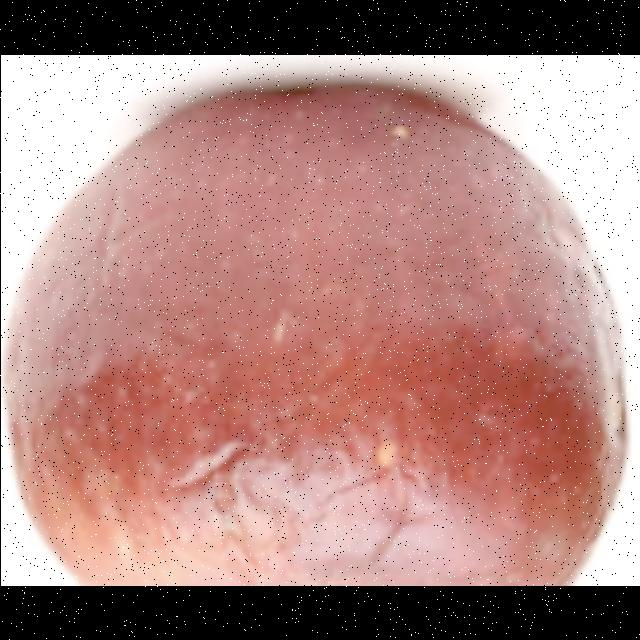Apel Tidak Segar: (0, 74, 640, 586)
